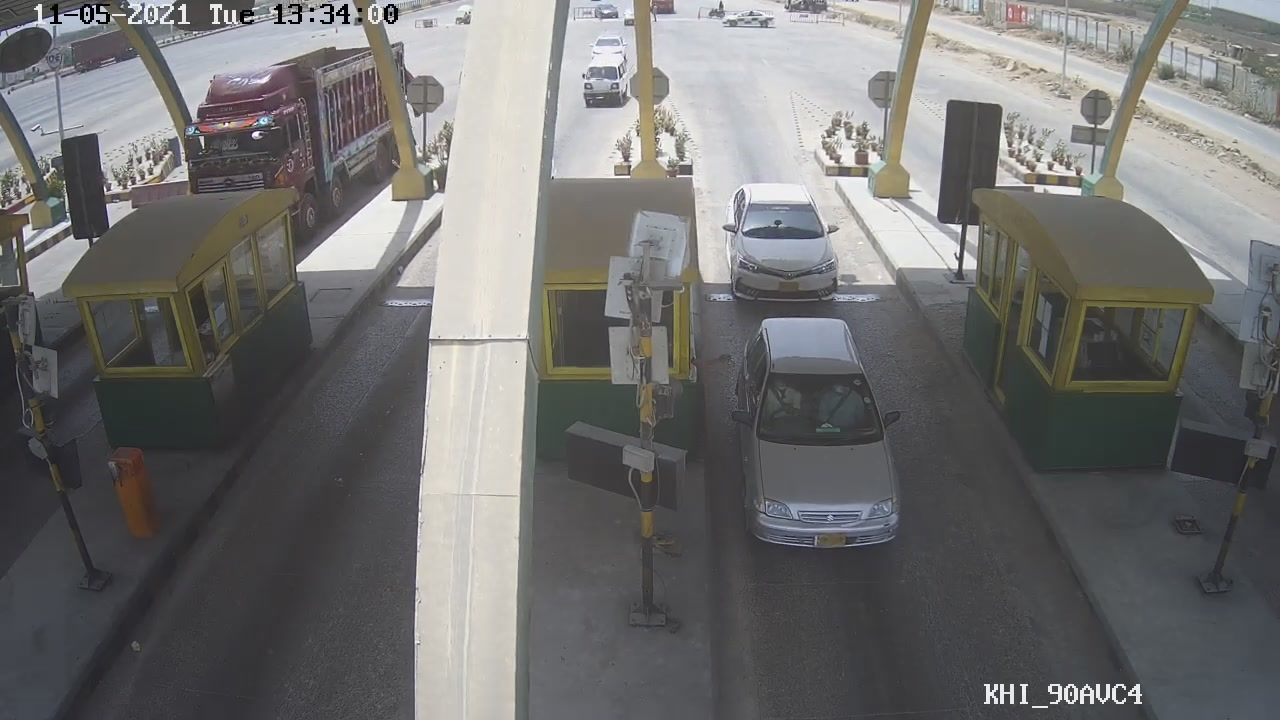F1: (715, 176, 845, 311)
